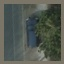car: (24, 16, 41, 50)
